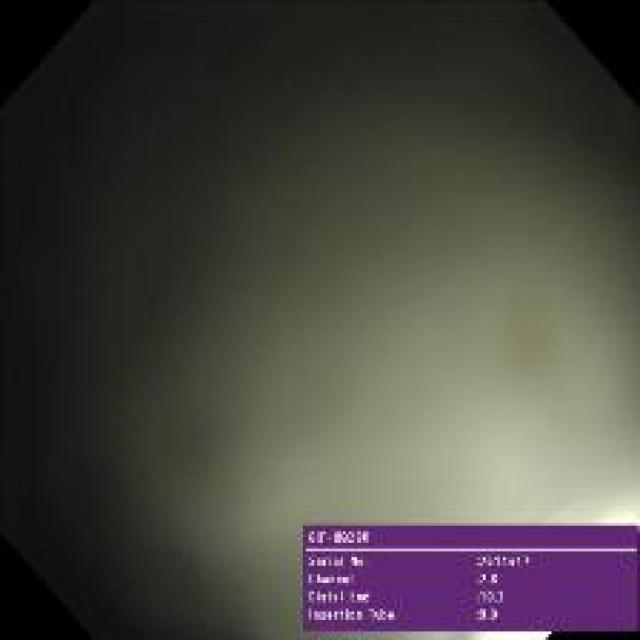color misalignment: (9, 16, 630, 631), (305, 521, 638, 631)
